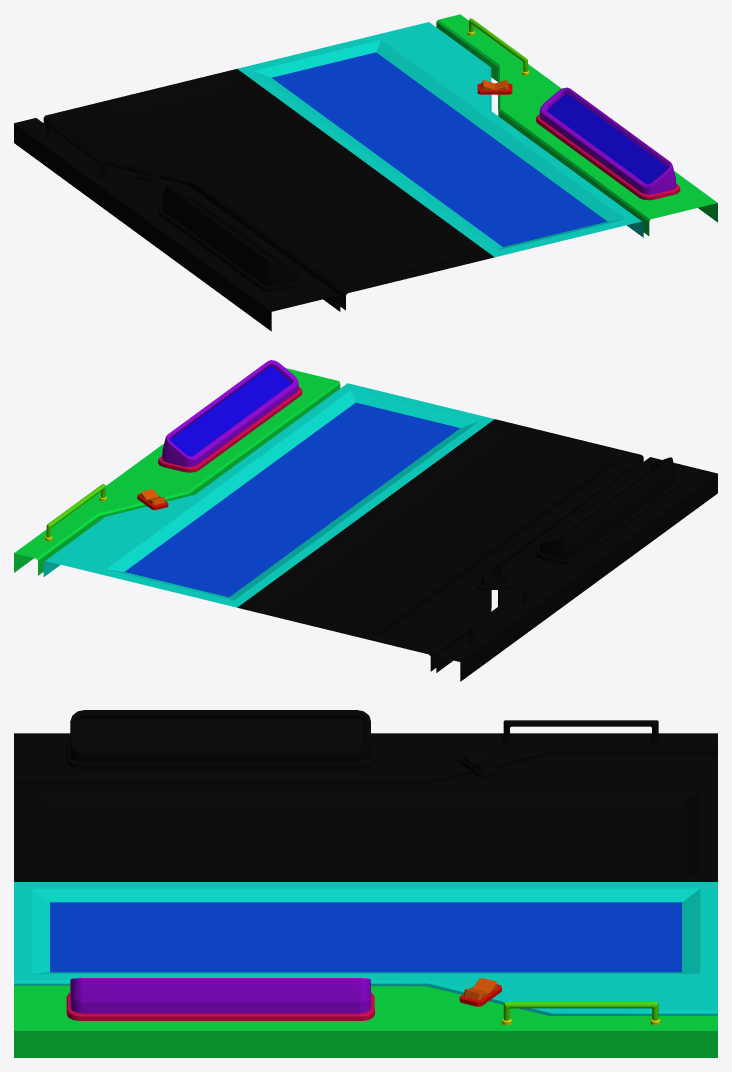
Rendered from truclr_Floor_Tile_01.fbx.
3 views of the same model, one above another, from view 1: azimuth 30°, elevation 25°; view 2: azimuth 150°, elevation 25°; view 3: azimuth 270°, elevation 25° (orthographic). The views are drawn at different scales.
Visible parts, largest first — view 1: Floor_Tile; view 2: Floor_Tile; view 3: Floor_Tile.
Boxes of the visible parts, x1,y1,x2,y2 form: Floor_Tile: (14, 14, 717, 331); Floor_Tile: (14, 360, 717, 681); Floor_Tile: (14, 710, 717, 1057).
Bounding box in the file's own units: 300 × 30.56 × 300.
